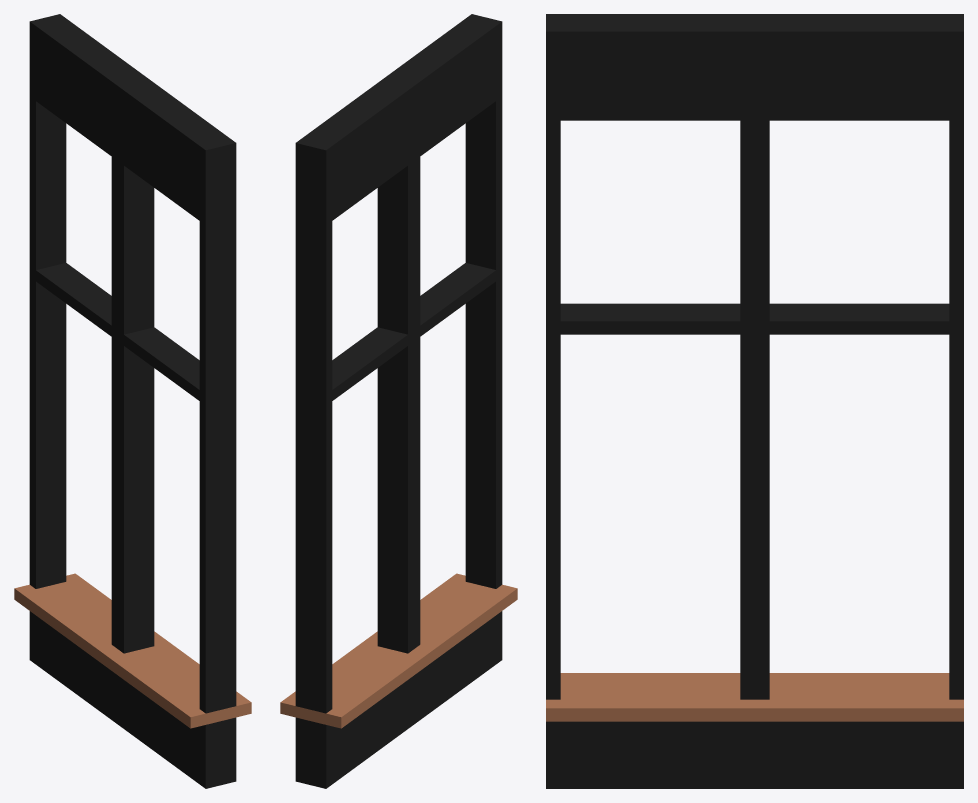
Rendered from SM_Build_Fenster_schwarz_2.fbx.
3 renders of one model, left to right at view 1: azimuth 30°, elevation 25°; view 2: azimuth 150°, elevation 25°; view 3: azimuth 270°, elevation 25°, orthographic. The views are drawn at different scales.
Visible parts, largest first — view 1: Fenster schwarz 2; view 2: Fenster schwarz 2; view 3: Fenster schwarz 2.
Part boxes in pixels (x1=…): Fenster schwarz 2: x1=14, y1=14, x2=251, y2=788; Fenster schwarz 2: x1=280, y1=14, x2=517, y2=788; Fenster schwarz 2: x1=546, y1=14, x2=963, y2=788.
Size of the model in its own units: 0.4 by 4 by 2.
